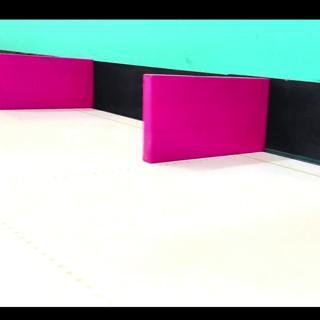xparking: (149, 76, 268, 162), (3, 60, 91, 109)
